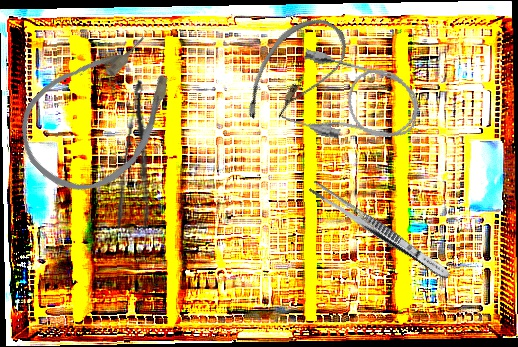Cannula: (0, 14, 202, 214), (234, 3, 356, 143), (279, 46, 426, 157)
Dressing Forceps: (306, 179, 454, 283), (113, 78, 168, 234)
